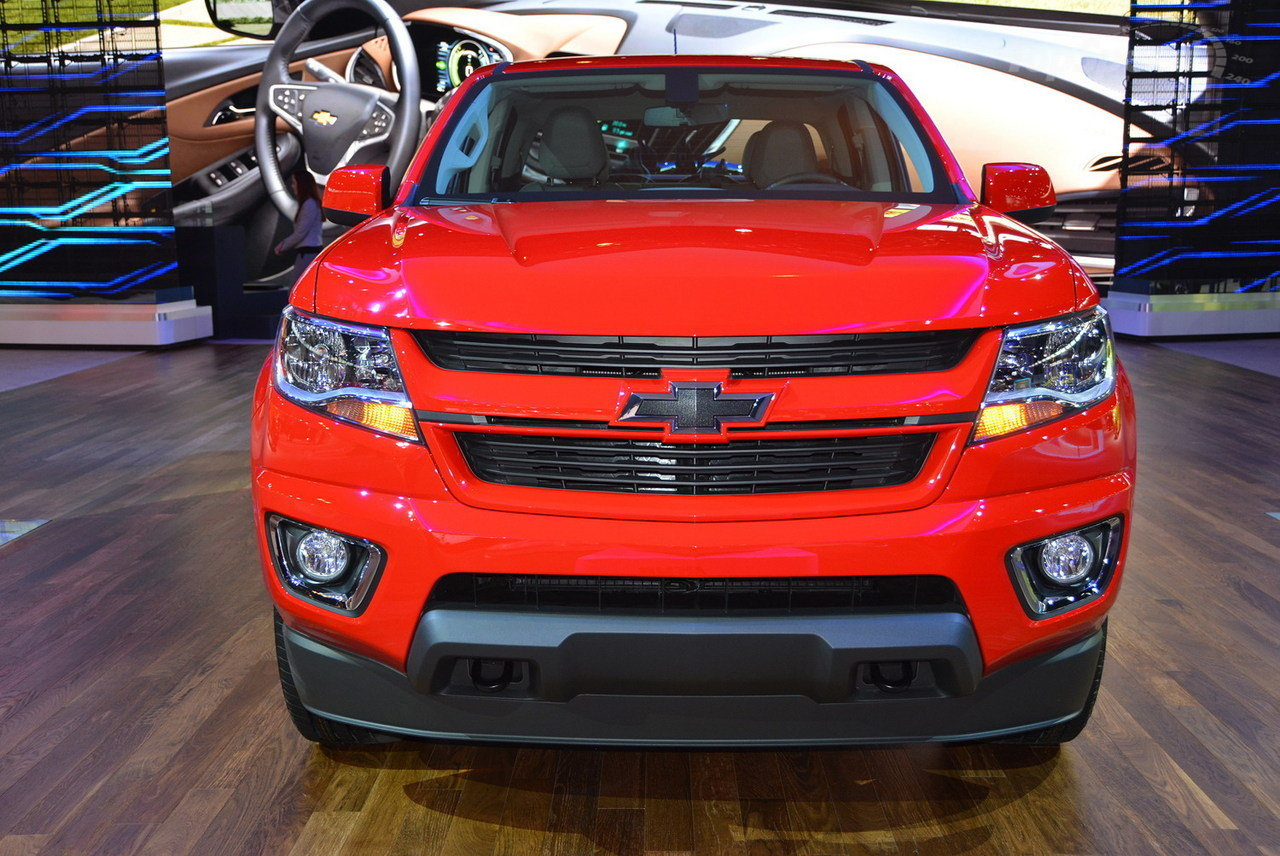front_view: (0, 85, 385, 237)
headlight: (290, 97, 370, 142)
